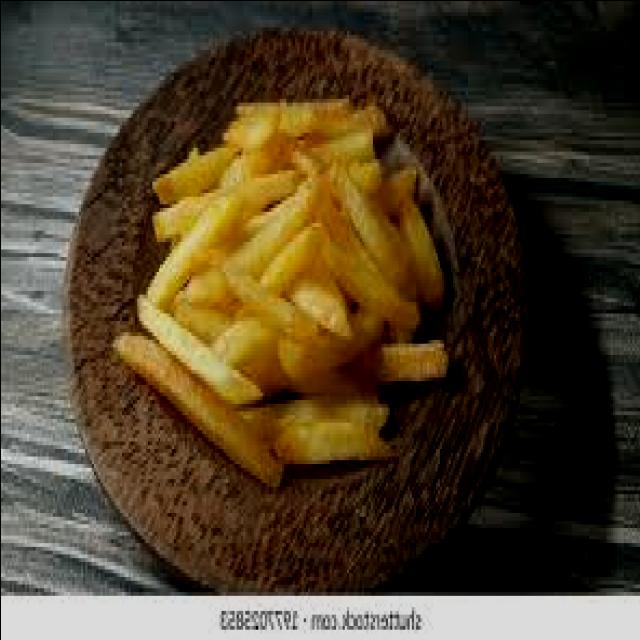kentang goreng: (110, 90, 456, 486)
